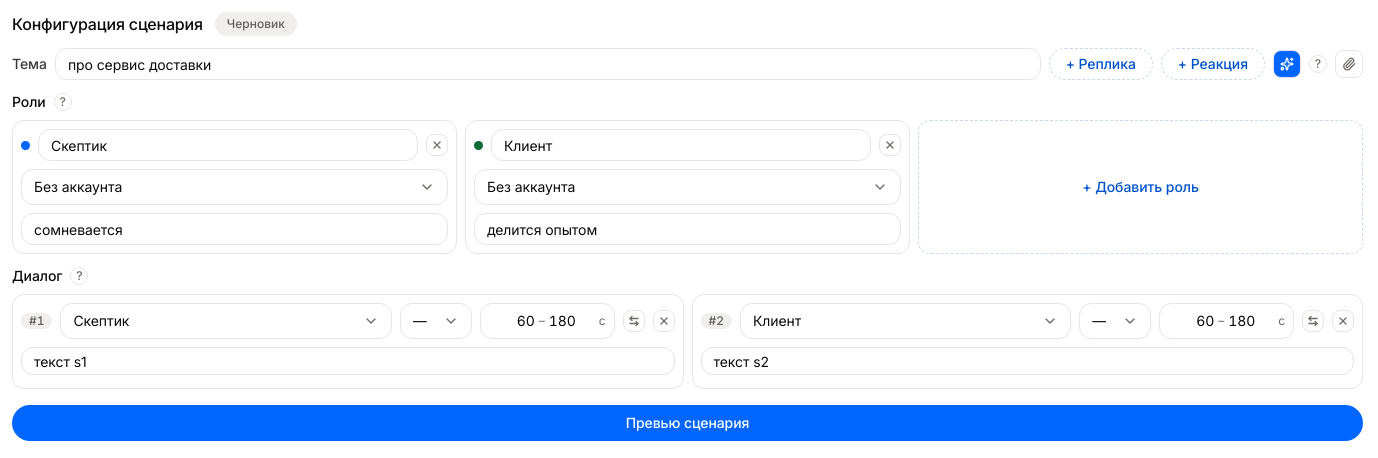
Scenario: the delay pair cannot be inverted, in either direction
Replace the text in the number field named "Минимальная пауза перед шагом 1" with "300" at (512, 321), box [489,311,535,331]
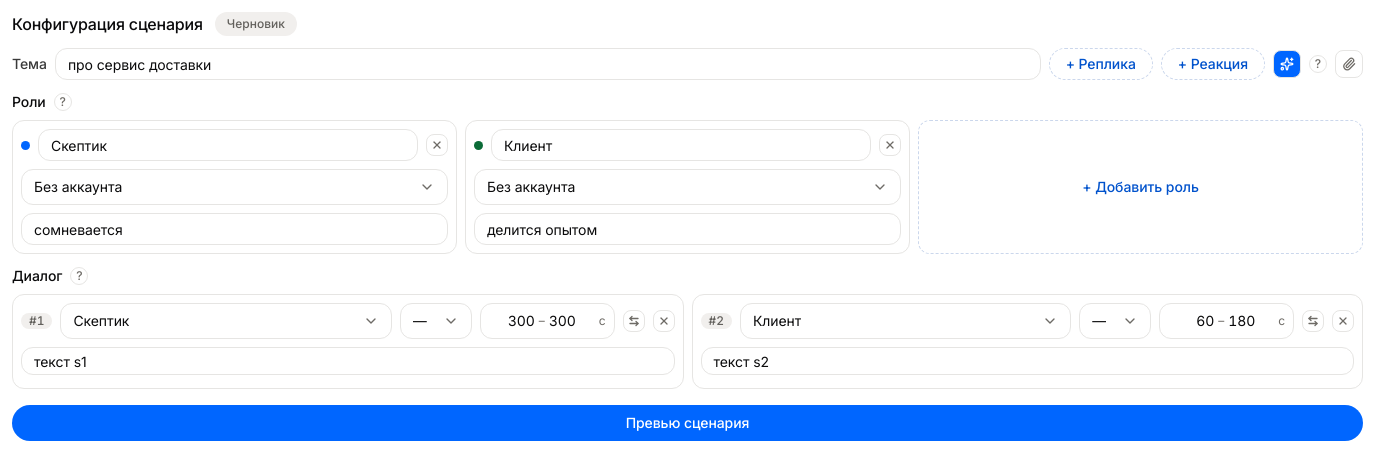
expect the number field named "Максимальная пауза перед шагом 1" holds "300": met
Replace the text in the number field named "Максимальная пауза перед шагом 1" with "5" at (572, 321), box [549,311,595,331]
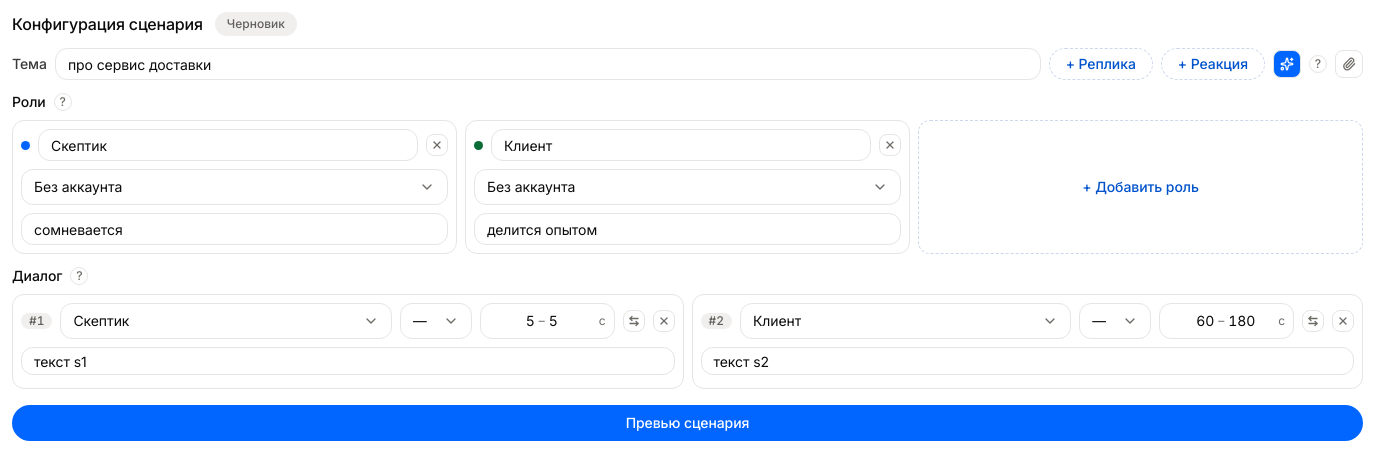
expect the number field named "Минимальная пауза перед шагом 1" holds "5": met, box [489,311,535,331]
